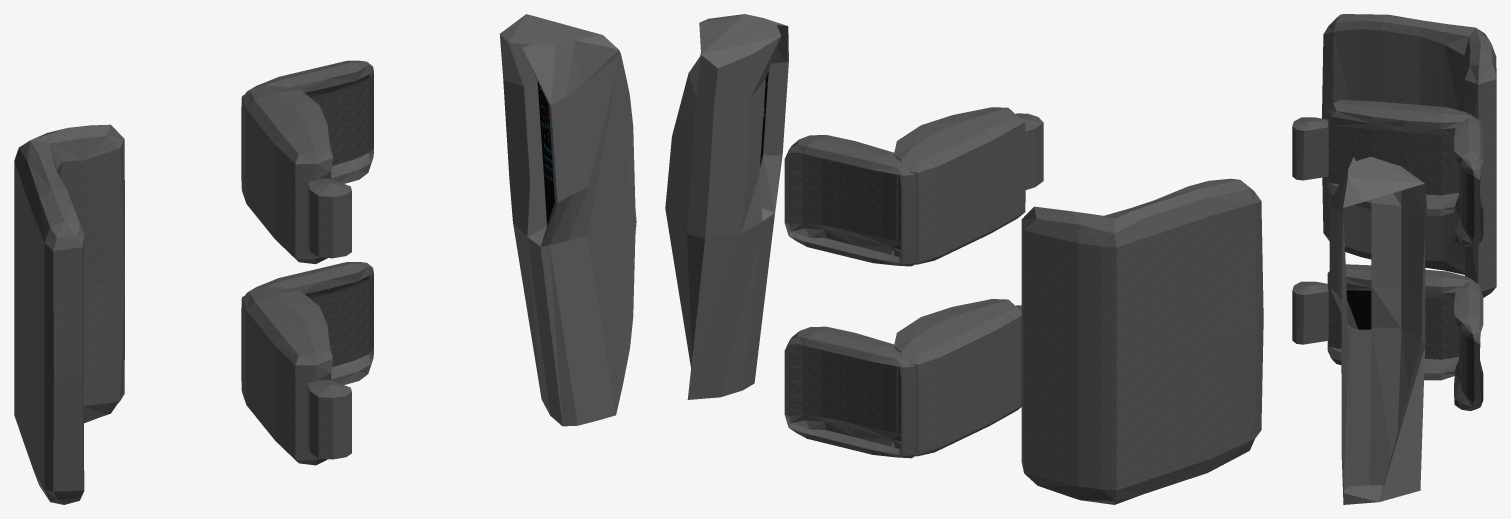
The model's file is interior.obj.
3 renders of one model, left to right at view 1: azimuth 30°, elevation 25°; view 2: azimuth 150°, elevation 25°; view 3: azimuth 270°, elevation 25°, orthographic. The views are drawn at different scales.
Parts seen in each view (by area): view 1: Material__10, dash, panel; view 2: Material__10, dash; view 3: Material__10, dash, panel.
Part boxes in pixels (x1,y1,x2,y2): Material__10: (14, 60, 373, 504); dash: (500, 14, 636, 426); panel: (537, 81, 554, 225); Material__10: (784, 107, 1263, 504); dash: (665, 14, 788, 399); Material__10: (1292, 14, 1496, 411); dash: (1329, 156, 1426, 504); panel: (1346, 290, 1371, 329).
Bounding box in the file's own units: 2.26 × 1.41 × 0.8283.
5 materials, 3 textured.
